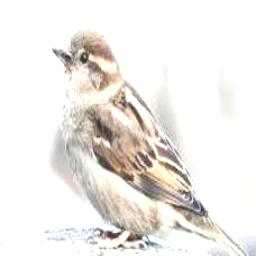Sparrow: (53, 26, 256, 256)
